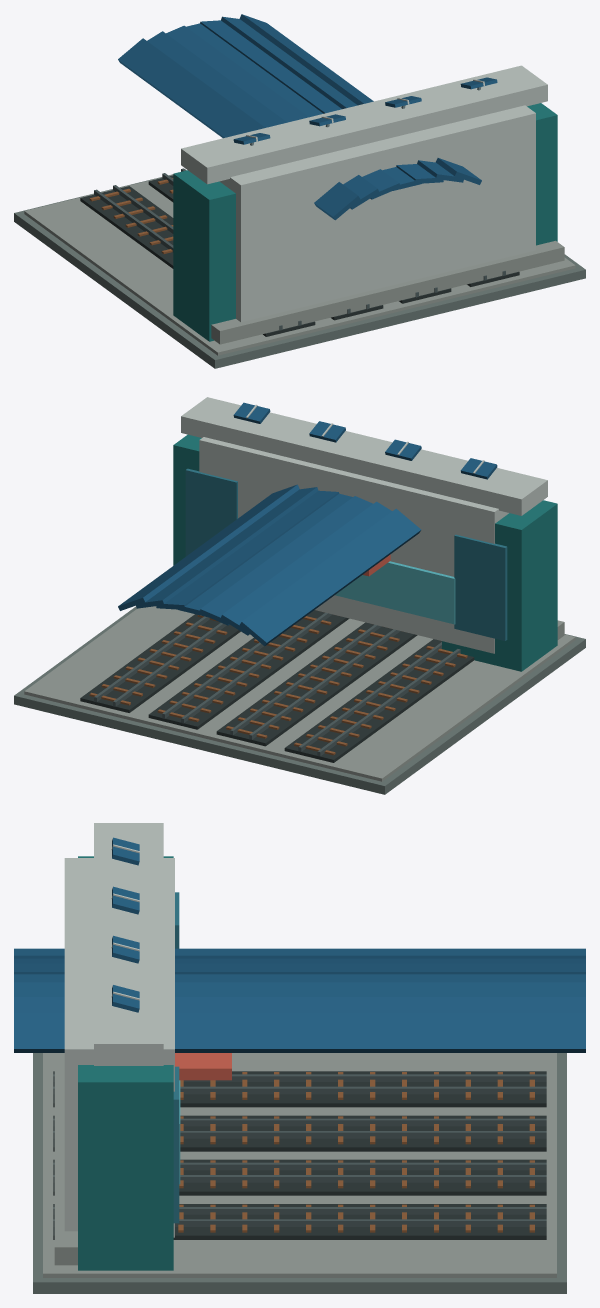
Rendered from train_station_lv4.glb.
The picture shows the model from 3 angles, top to bottom: view 1: azimuth 30°, elevation 25°; view 2: azimuth 150°, elevation 25°; view 3: azimuth 270°, elevation 25°; orthographic projection. The views are drawn at different scales.
Parts seen in each view (by area): view 1: rough, metallic; view 2: rough, metallic, glossy; view 3: rough, metallic, glossy.
Boxes of the visible parts, <box> form: rough: <box>14,65,585,368</box>; metallic: <box>94,14,505,330</box>; rough: <box>14,397,585,794</box>; metallic: <box>94,402,497,756</box>; glossy: <box>185,468,507,640</box>; rough: <box>33,823,566,1293</box>; metallic: <box>14,837,585,1226</box>; glossy: <box>173,892,180,1223</box>.
Size of the model in its own units: 9.8 by 4.85 by 9.85.
